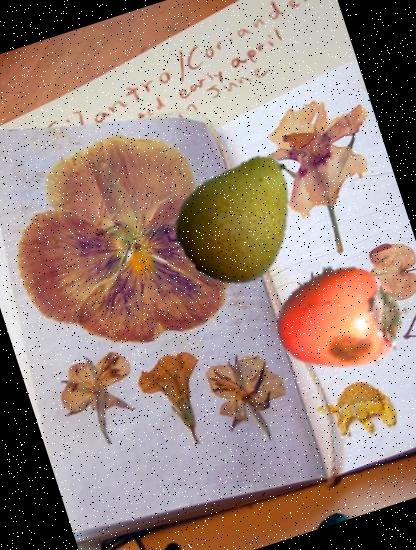Kaki: (255, 228, 416, 401)
Pear: (154, 130, 326, 303)
